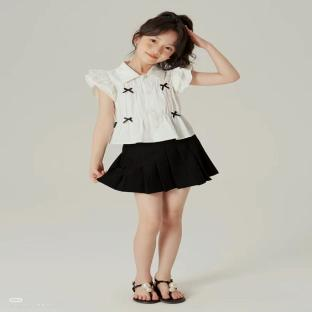Human: (86, 12, 240, 302)
